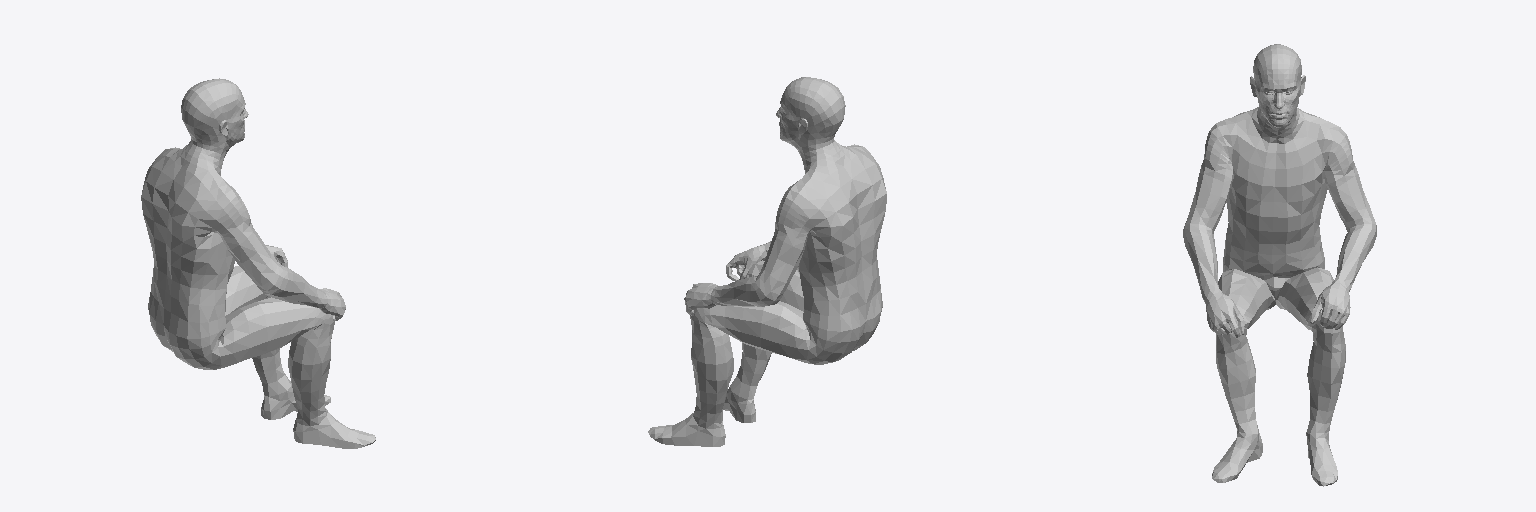
The model's file is sittingPos.obj.
3 renders of one model, left to right at view 1: azimuth 30°, elevation 25°; view 2: azimuth 150°, elevation 25°; view 3: azimuth 270°, elevation 25°, orthographic.
Parts seen in each view (by area): view 1: citizen_man_01_body_01.001, head; view 2: citizen_man_01_body_01.001, head; view 3: citizen_man_01_body_01.001, head.
Boxes of the visible parts, x1=… form: citizen_man_01_body_01.001: x1=141, y1=147, x2=375, y2=448; head: x1=166, y1=78, x2=248, y2=180; citizen_man_01_body_01.001: x1=648, y1=144, x2=886, y2=446; head: x1=776, y1=77, x2=860, y2=181; citizen_man_01_body_01.001: x1=1183, y1=113, x2=1376, y2=486; head: x1=1236, y1=44, x2=1319, y2=152.
Bounding box in the file's own units: 24.29 × 44.61 × 21.07.